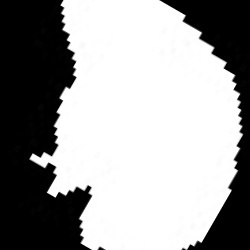spot: (31, 2, 242, 247)
